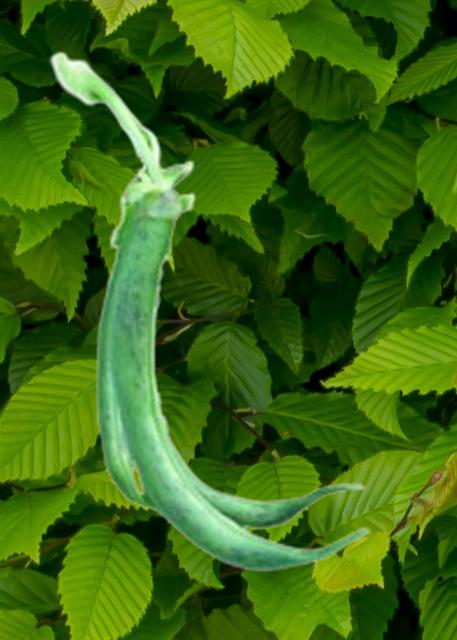french_bean: (48, 50, 369, 572)
